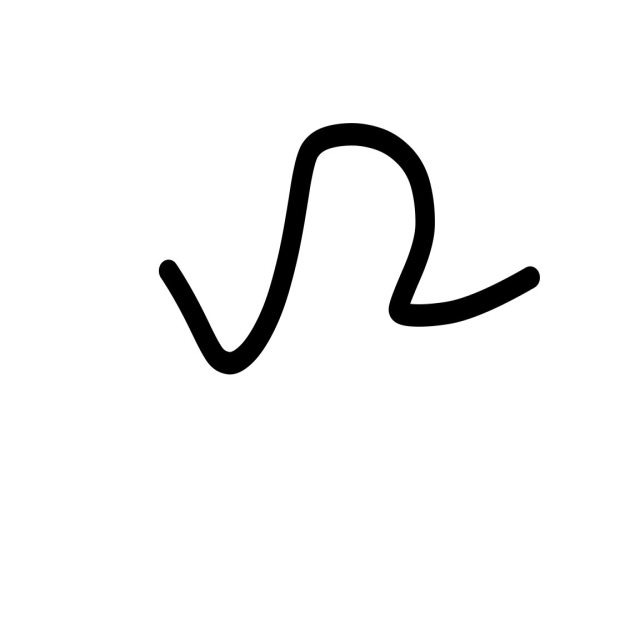ohms: (133, 60, 582, 426)
